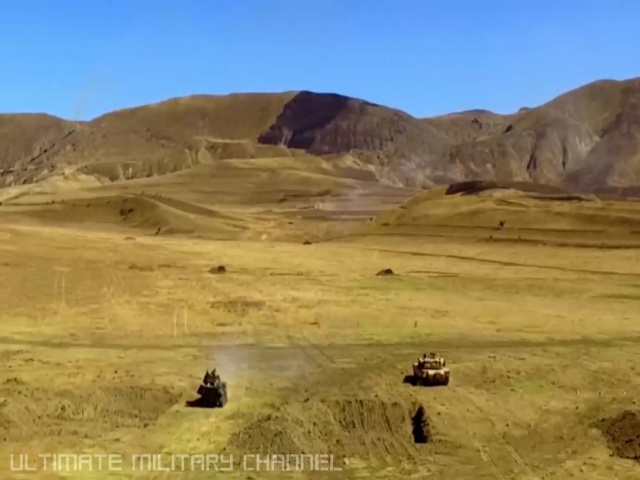vehicle: (410, 352, 451, 388), (194, 368, 228, 409)
